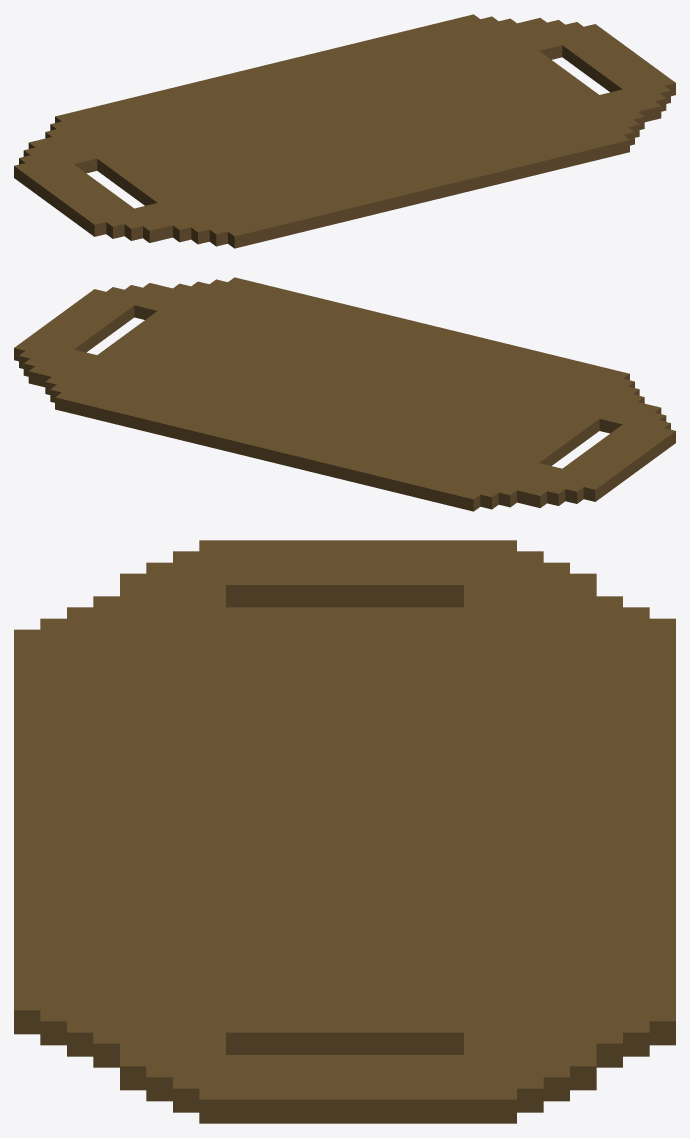
The model's file is TablaCortar.obj.
The picture shows the model from 3 angles, top to bottom: view 1: azimuth 30°, elevation 25°; view 2: azimuth 150°, elevation 25°; view 3: azimuth 270°, elevation 25°; orthographic projection. The views are drawn at different scales.
Size of the model in its own units: 5 by 0.1 by 2.5.
1 material, 1 textured.
